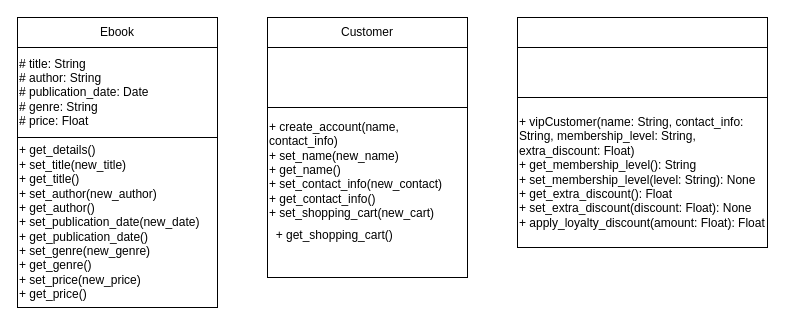
Some shapes in this 785 by 325 pixel diagram are drawn without their labels. The centre of each missing label's shape, as x and y in pixels:
"# name: String # contact_info: Integer # shopping_cart: ShoppingCart" belongs at (x=367, y=77).
"- membership_level: String - extra_discount: Float" belongs at (x=642, y=72).
"VIPCustomer" belongs at (x=642, y=32).
